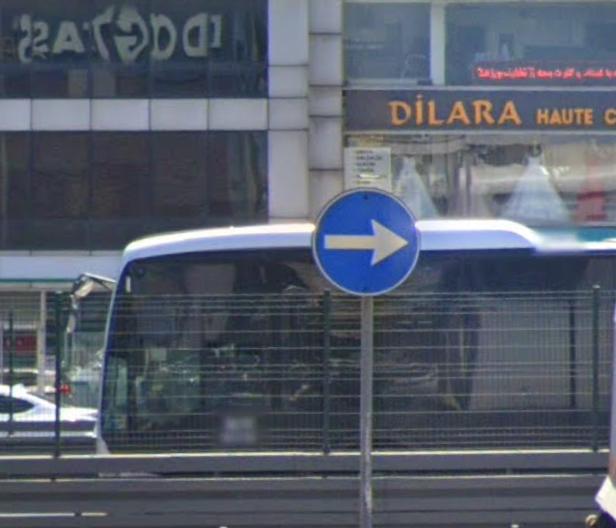turnright: (311, 188, 425, 297)
